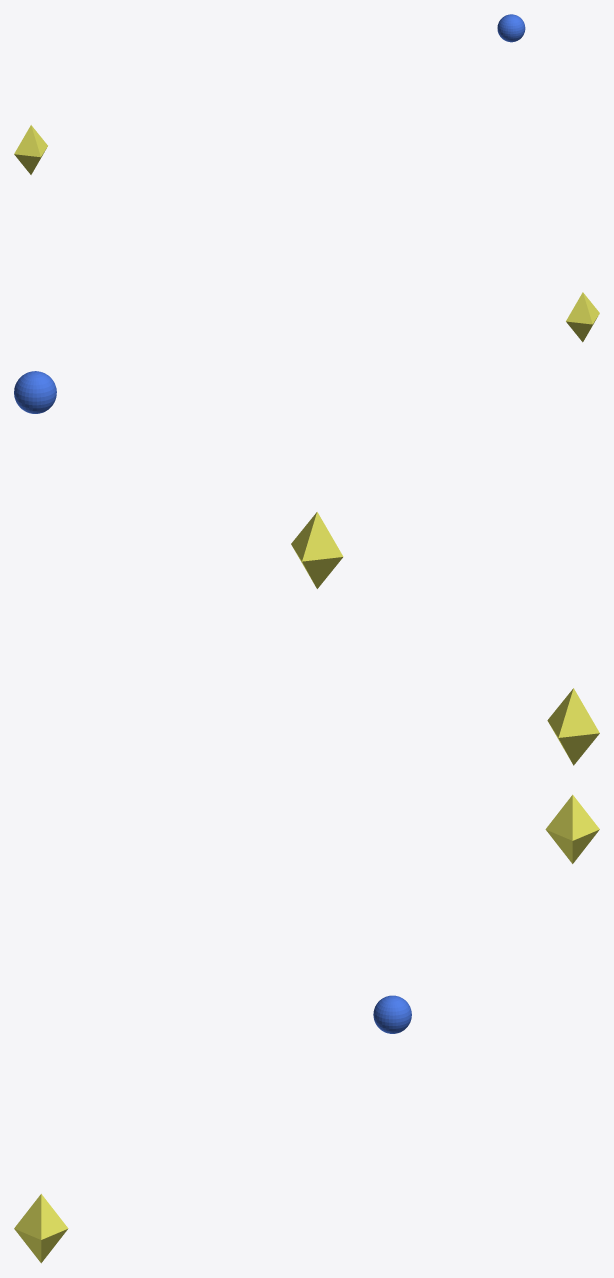
File: fes.glb
3 views of the same model, one above another, from view 1: azimuth 30°, elevation 25°; view 2: azimuth 150°, elevation 25°; view 3: azimuth 270°, elevation 25° (orthographic). The views are drawn at different scales.
Parts seen in each view (by area): view 1: diamond.001, diamond, Sphere; view 2: diamond, diamond.001, Sphere; view 3: diamond, diamond.001, Sphere.
Boxes of the visible parts, left/top/right/bottom form: diamond.001: left=566, top=292, right=599, bottom=342; diamond: left=14, top=125, right=47, bottom=174; Sphere: left=497, top=14, right=525, bottom=42; diamond: left=547, top=688, right=599, bottom=765; diamond.001: left=291, top=512, right=343, bottom=588; Sphere: left=14, top=371, right=56, bottom=413; diamond: left=545, top=794, right=599, bottom=863; diamond.001: left=14, top=1194, right=68, bottom=1263; Sphere: left=373, top=995, right=411, bottom=1033.
Size of the model in its own units: 36.72 by 17.39 by 30.39.
